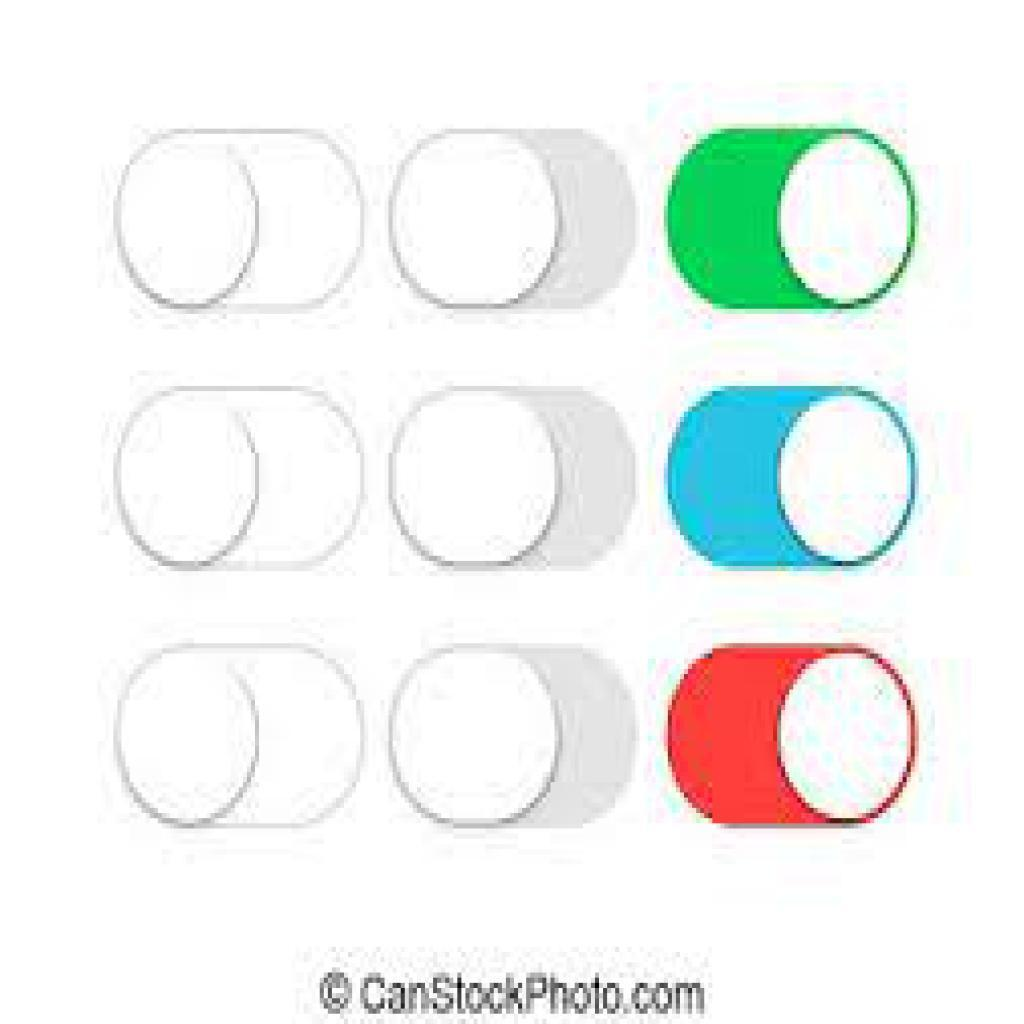switch: (660, 376, 927, 585), (105, 631, 371, 835), (110, 380, 373, 580), (395, 629, 647, 837), (383, 123, 646, 321), (111, 125, 370, 326), (387, 374, 638, 578), (660, 640, 918, 833), (664, 127, 926, 313)
